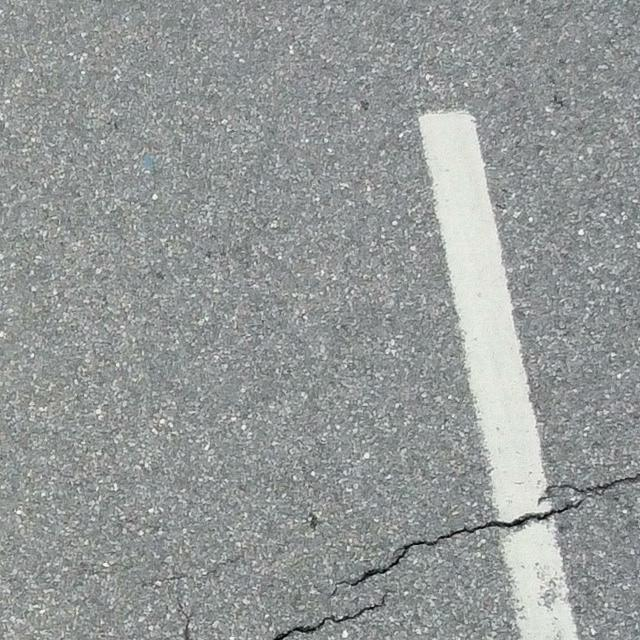TransverseCrack: (326, 472, 640, 596), (273, 590, 397, 640)
